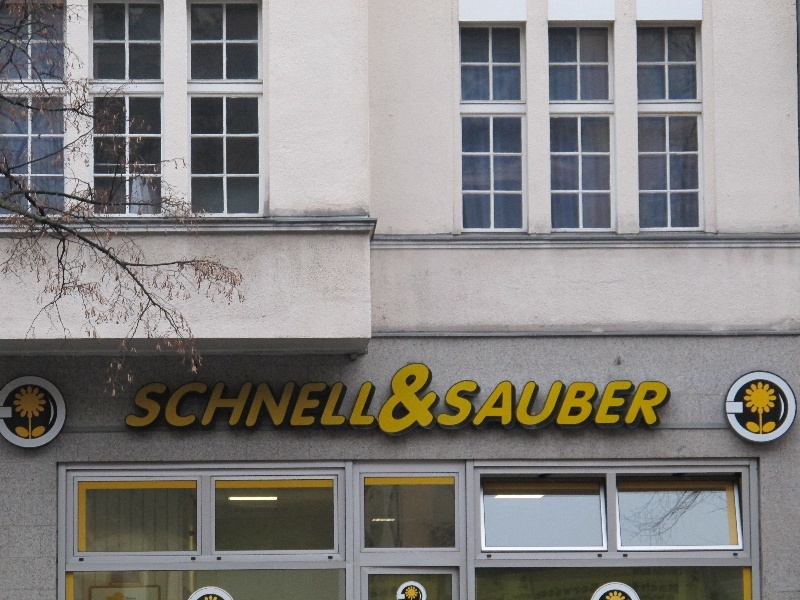text: (401, 361, 416, 443), (417, 361, 432, 443), (433, 361, 446, 443), (449, 379, 464, 431), (465, 379, 480, 431), (481, 379, 496, 431), (497, 379, 512, 431), (513, 379, 528, 431), (529, 379, 544, 431), (545, 379, 560, 431), (561, 379, 576, 431), (577, 379, 592, 431), (593, 379, 608, 431), (609, 379, 624, 431), (625, 379, 640, 431), (641, 379, 656, 431), (657, 379, 672, 431), (145, 381, 160, 431), (161, 381, 176, 431), (177, 381, 192, 431), (193, 381, 208, 431), (209, 381, 224, 431), (225, 381, 240, 431), (241, 381, 256, 431), (257, 381, 272, 431), (273, 381, 288, 431), (289, 381, 304, 431), (305, 381, 320, 431), (321, 381, 336, 431), (337, 381, 352, 431), (353, 381, 368, 431), (394, 361, 400, 443), (369, 381, 378, 431), (140, 381, 144, 431), (673, 379, 676, 431)
